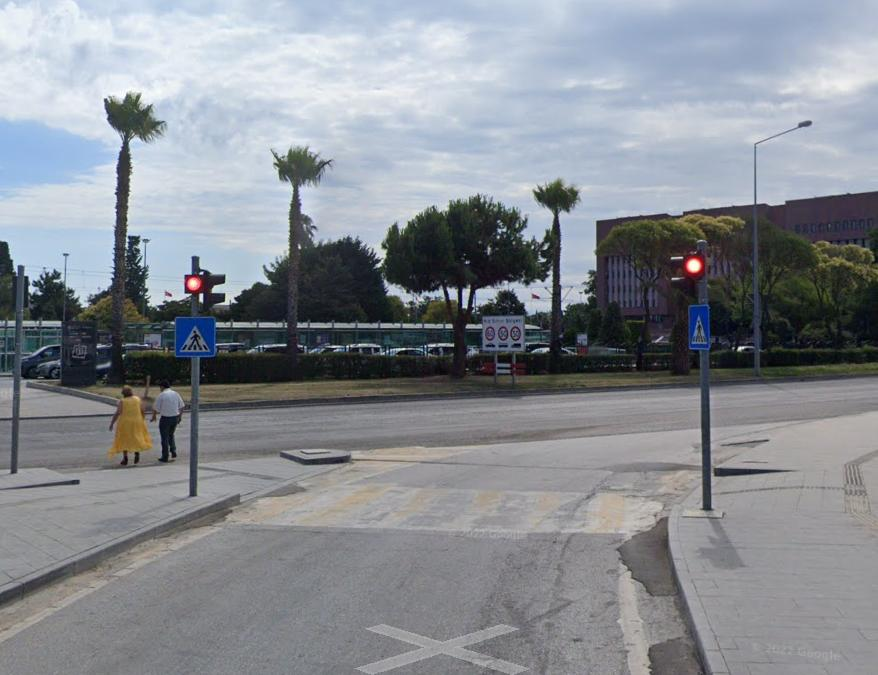redlight: (685, 251, 706, 291), (185, 271, 208, 299)
